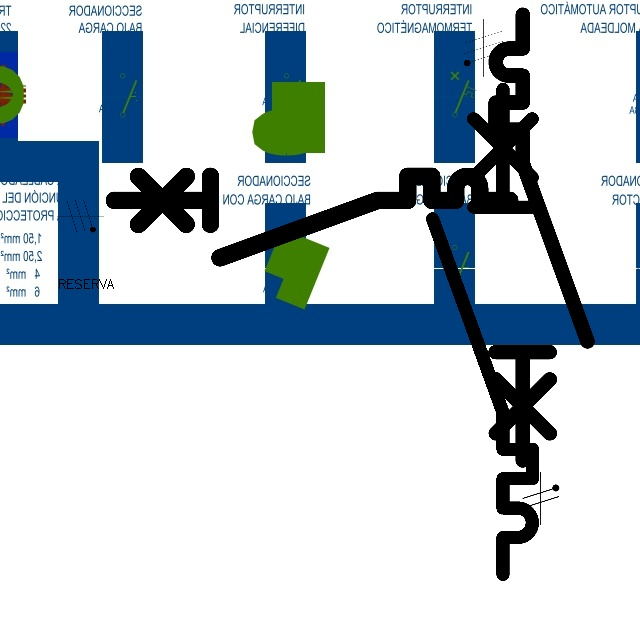interruptor_termomagnetico: (420, 76, 545, 587), (484, 3, 598, 471), (104, 166, 520, 268)
